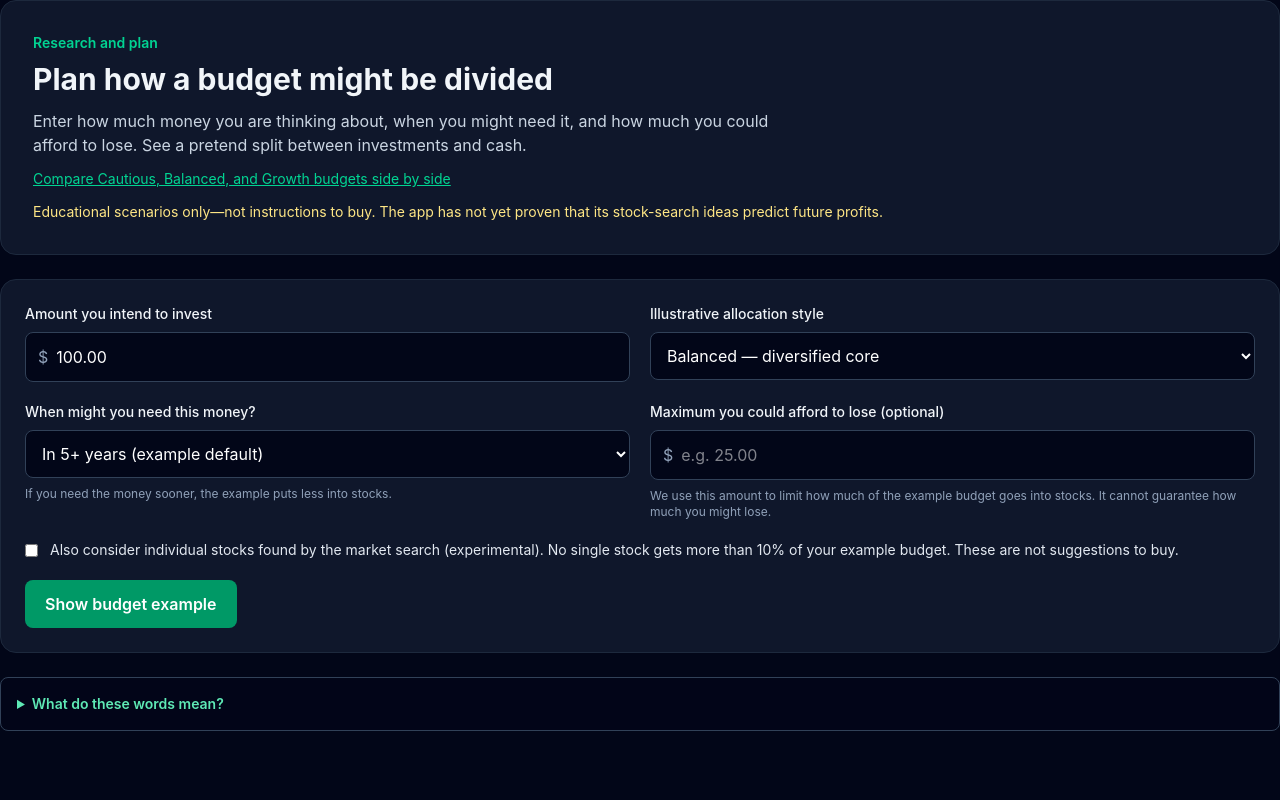
Test case: BudgetPlannerPage › does not request impossible or fractional-cent budgets
Type "100.001" into the field named "Investment amount in dollars".
click(333, 357); type("100.001")  # box [48,333,617,381]
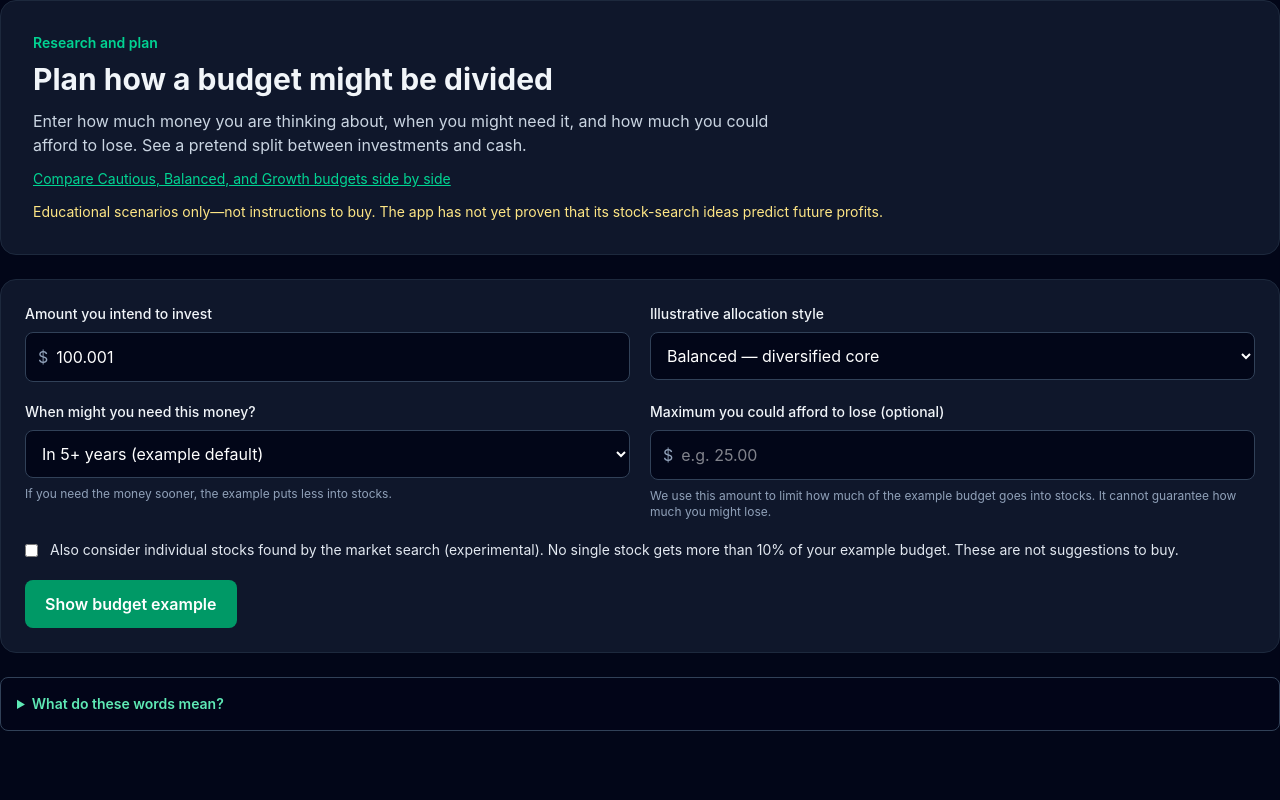
Click the button "Show budget example".
click(131, 604)  # box [25,580,236,628]
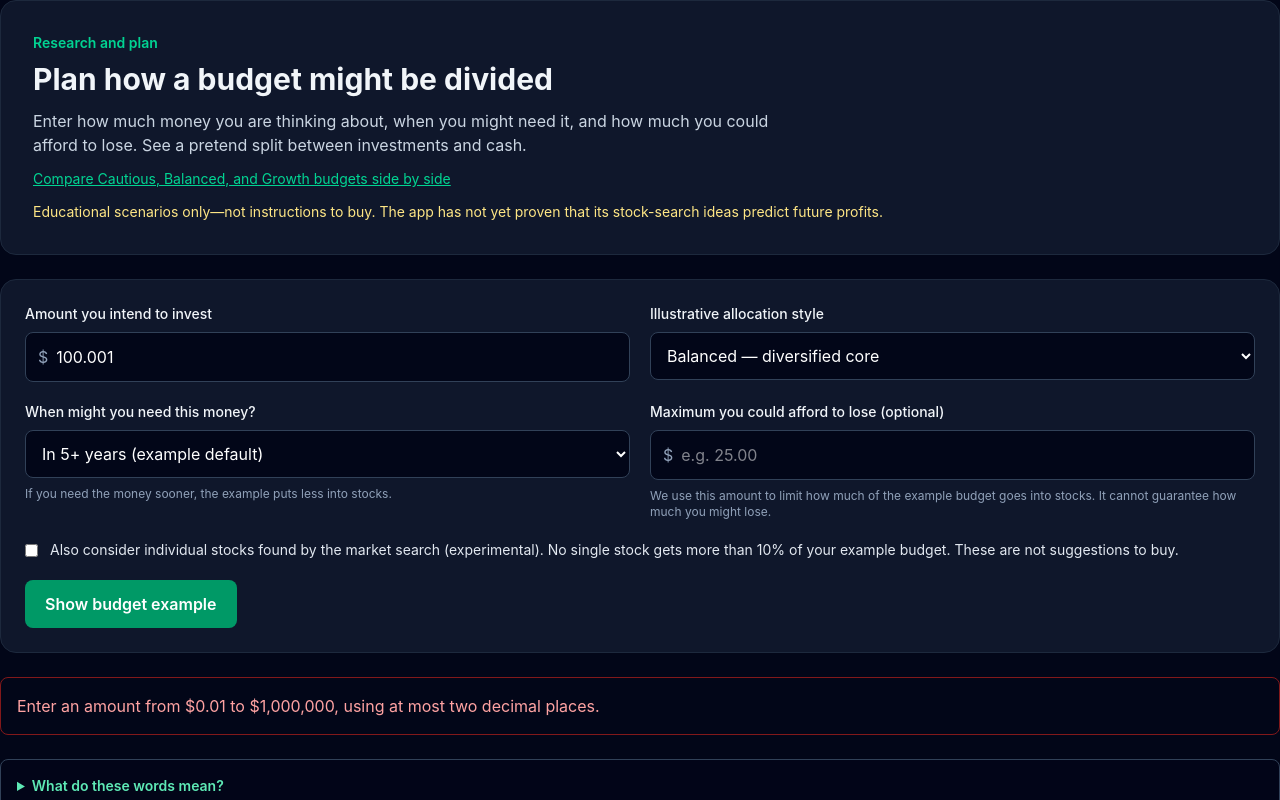
Result: the message "Enter an amount from $0.01 to $1,000,000, using at most two decimal places." is shown at [0,677,1279,735]
